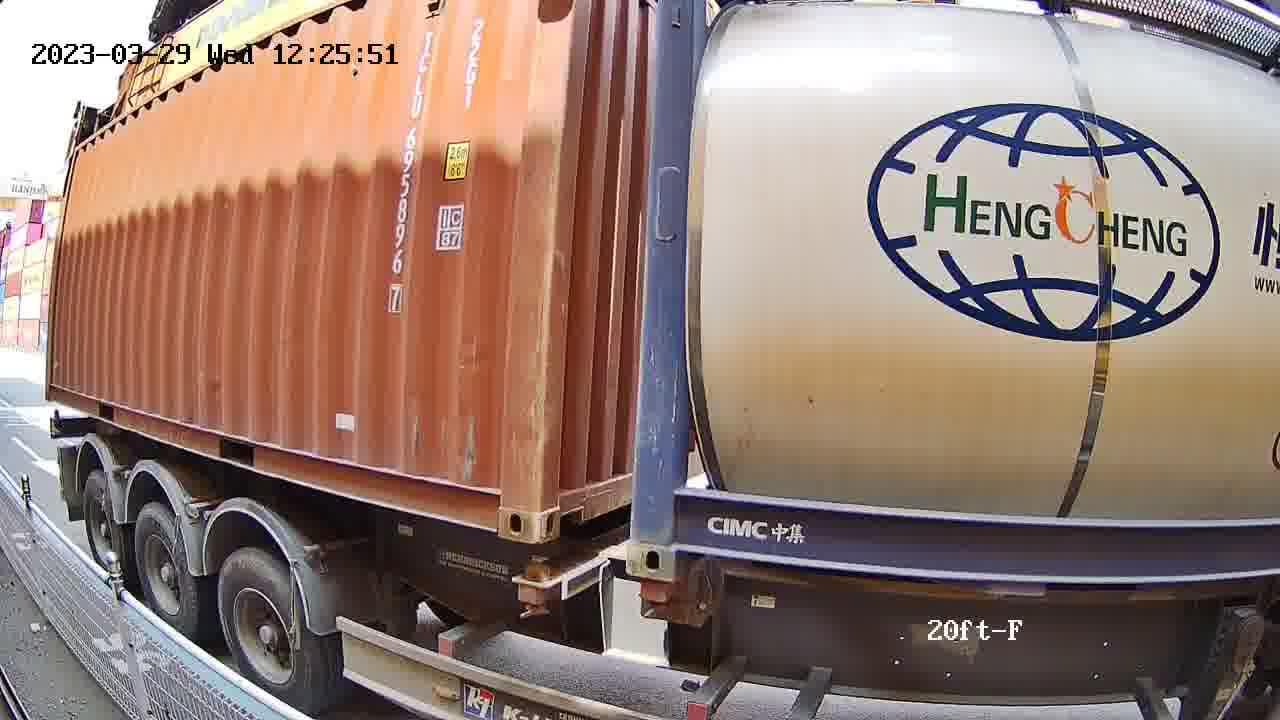Cone: (515, 558, 553, 618), (635, 579, 673, 619)
Hole_L: (627, 499, 711, 583), (537, 452, 594, 544)
Hole_R: (458, 456, 537, 545)
Tire: (218, 551, 316, 709), (135, 507, 197, 636), (82, 475, 124, 580)
